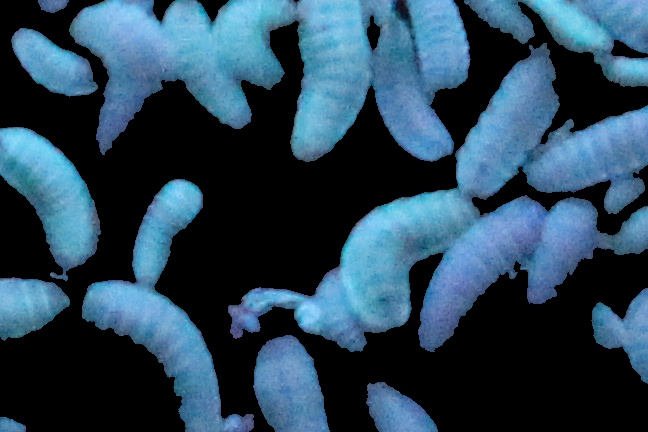larvae: (341, 180, 484, 331), (416, 195, 552, 350), (83, 282, 222, 432), (455, 49, 560, 197), (1, 123, 100, 267), (291, 1, 371, 162), (371, 20, 454, 161), (159, 1, 249, 129), (71, 1, 141, 153), (526, 109, 648, 196), (127, 181, 206, 286), (212, 2, 300, 88), (522, 203, 597, 303), (255, 337, 330, 432), (9, 30, 97, 94), (404, 1, 469, 85), (528, 1, 613, 56), (314, 267, 366, 353), (1, 276, 71, 335), (366, 382, 443, 432), (463, 1, 535, 45)
